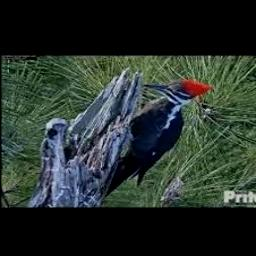Woodpecker: (102, 79, 212, 200)
